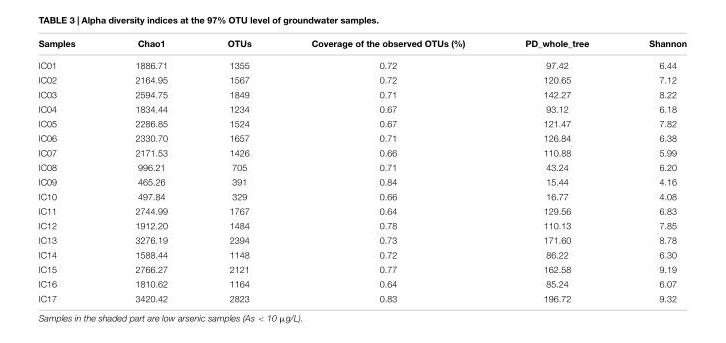table: (37, 37, 686, 303)
table column: (280, 37, 494, 303), (494, 37, 618, 303), (104, 37, 196, 303), (196, 37, 280, 303), (618, 37, 686, 303), (37, 37, 104, 303)
table column header: (37, 37, 686, 53)
table row: (37, 53, 686, 71), (37, 37, 686, 53), (37, 71, 686, 86), (37, 86, 686, 101), (37, 115, 686, 130), (37, 144, 686, 159), (37, 173, 686, 188), (37, 188, 686, 203), (37, 217, 686, 232), (37, 246, 686, 261), (37, 275, 686, 290), (37, 101, 686, 115), (37, 130, 686, 144), (37, 159, 686, 173), (37, 203, 686, 217), (37, 232, 686, 246), (37, 261, 686, 275), (37, 290, 686, 303)
